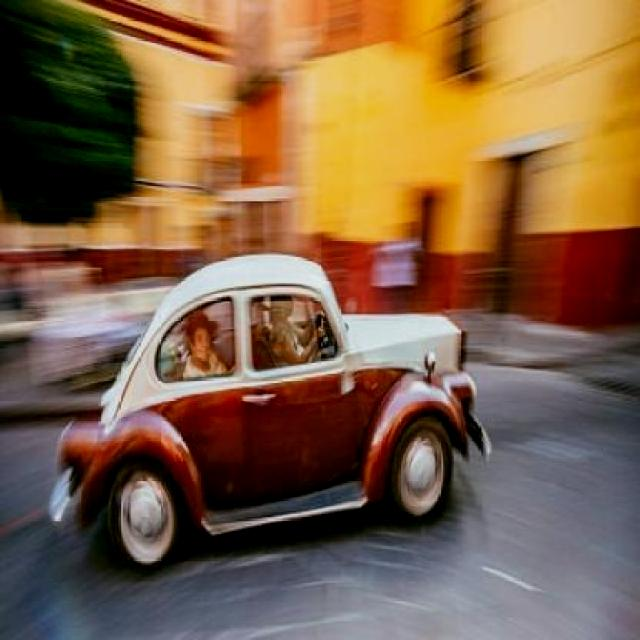car: (66, 270, 474, 541)
